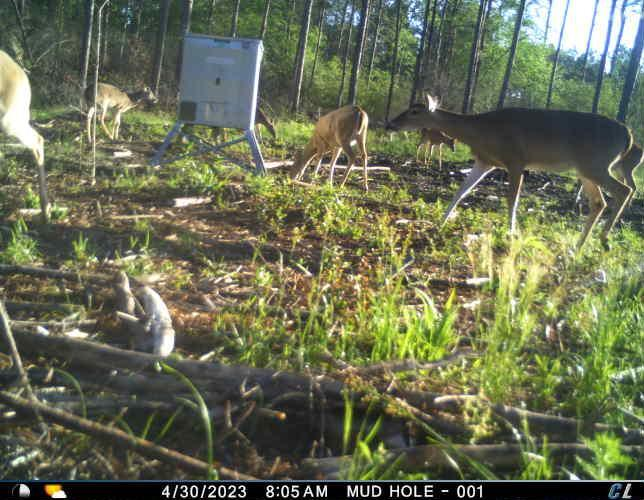Deer: (383, 91, 633, 258), (0, 45, 54, 228), (289, 102, 375, 183), (77, 78, 161, 147), (612, 139, 644, 199), (414, 128, 460, 165), (246, 104, 282, 143)
